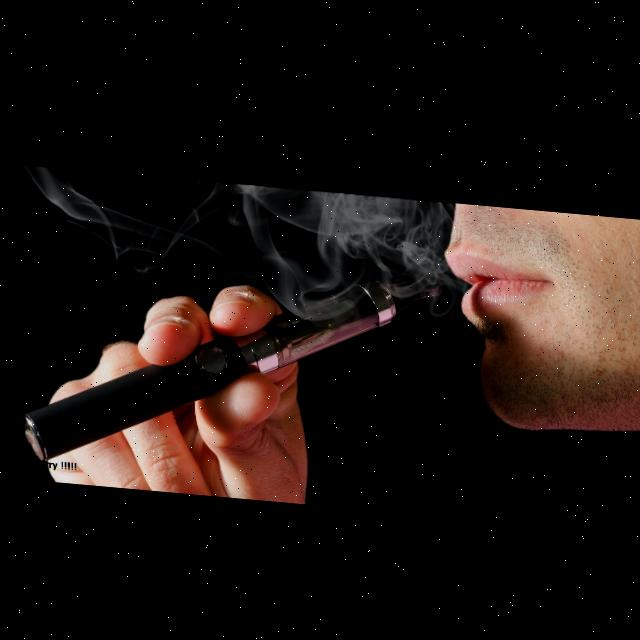vape: (17, 226, 441, 487)
